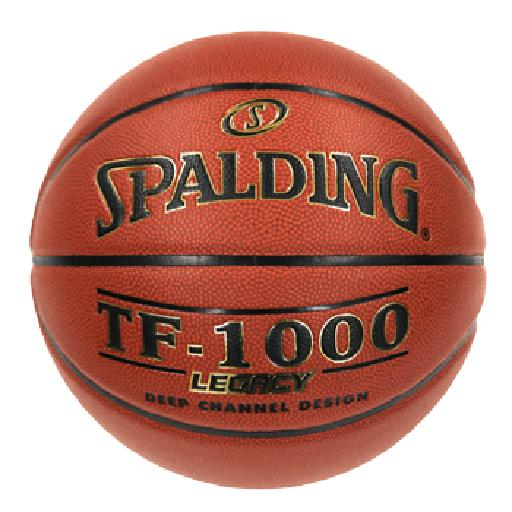ball: (29, 31, 486, 490)
